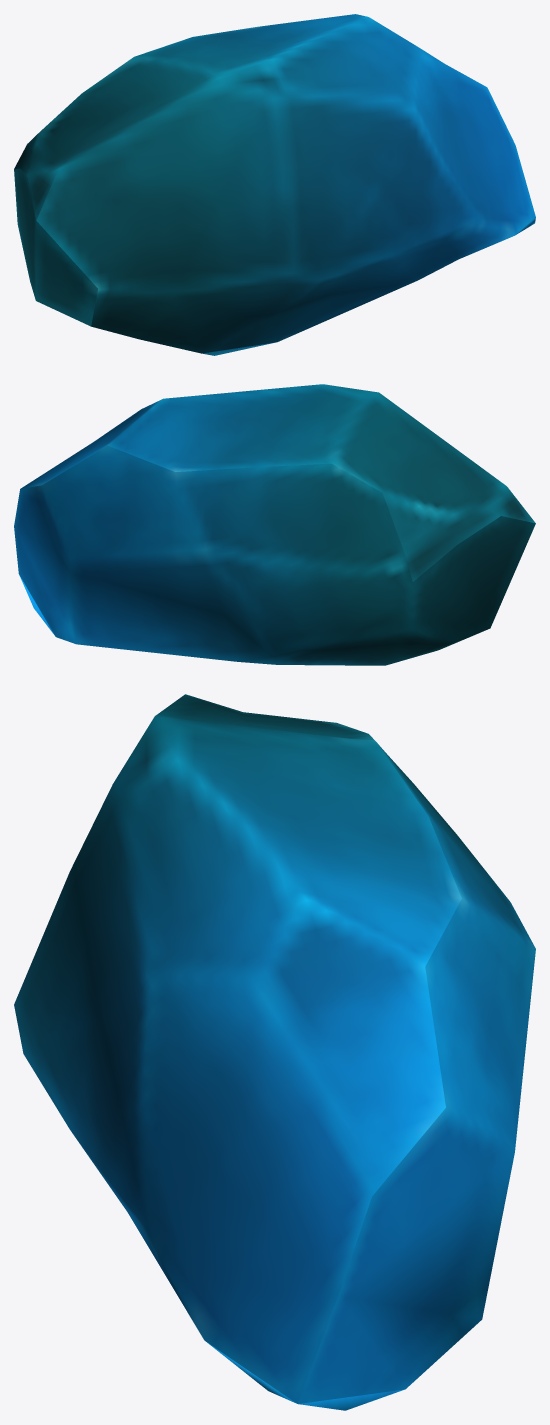
The model's file is 05_ING_gem_blue.glb.
3 views of the same model, one above another, from view 1: azimuth 30°, elevation 25°; view 2: azimuth 150°, elevation 25°; view 3: azimuth 270°, elevation 25° (orthographic). The views are drawn at different scales.
Parts seen in each view (by area): view 1: 05_ING_gem_blue; view 2: 05_ING_gem_blue; view 3: 05_ING_gem_blue.
Part boxes in pixels (x1=…): 05_ING_gem_blue: x1=14, y1=14, x2=535, y2=355; 05_ING_gem_blue: x1=14, y1=384, x2=535, y2=665; 05_ING_gem_blue: x1=14, y1=694, x2=535, y2=1410.
Size of the model in its own units: 0.0918 by 0.0477 by 0.0485.
Materials: 1 (1 with a texture image).
